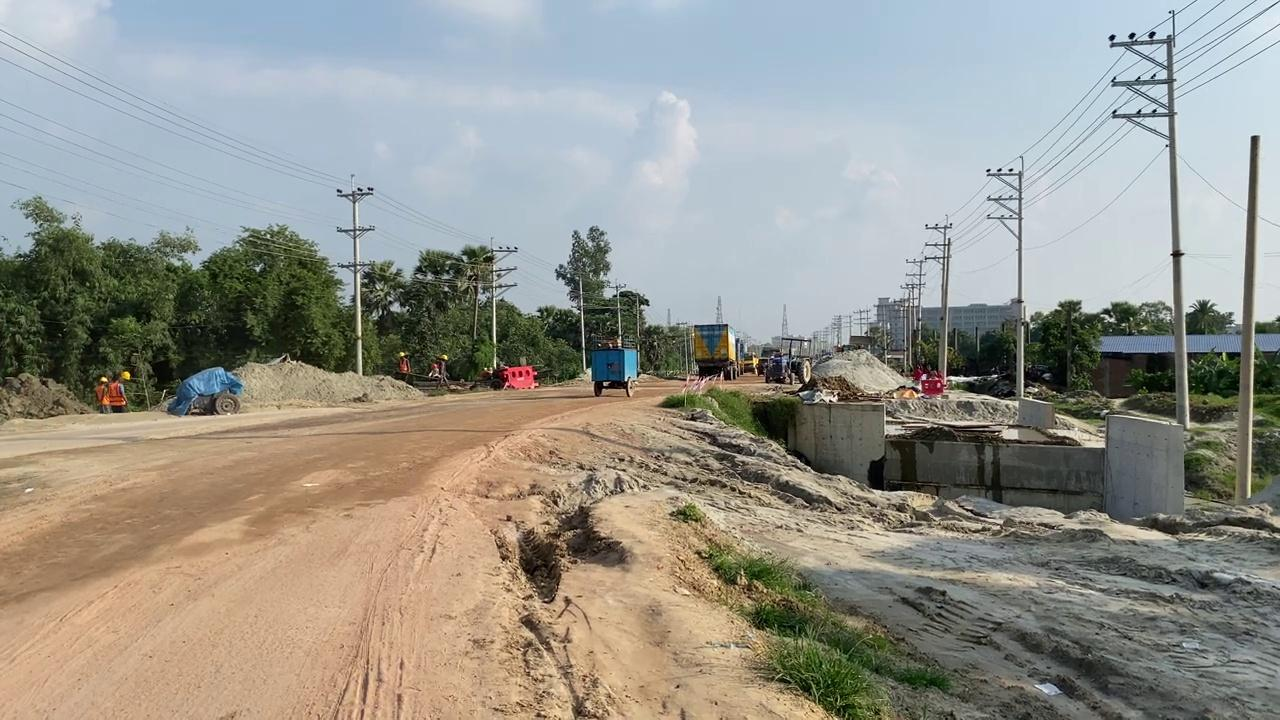Construction-barrier: (911, 359, 944, 395), (498, 364, 537, 389)
Garbage: (165, 365, 243, 416)
Muddy road: (2, 371, 1277, 717)
Pole: (1234, 133, 1260, 504)
Traffic-sign: (554, 223, 612, 373)
Tree: (691, 323, 739, 380), (397, 351, 464, 391), (589, 347, 638, 396), (763, 335, 811, 385), (185, 389, 240, 415), (739, 353, 759, 376)
